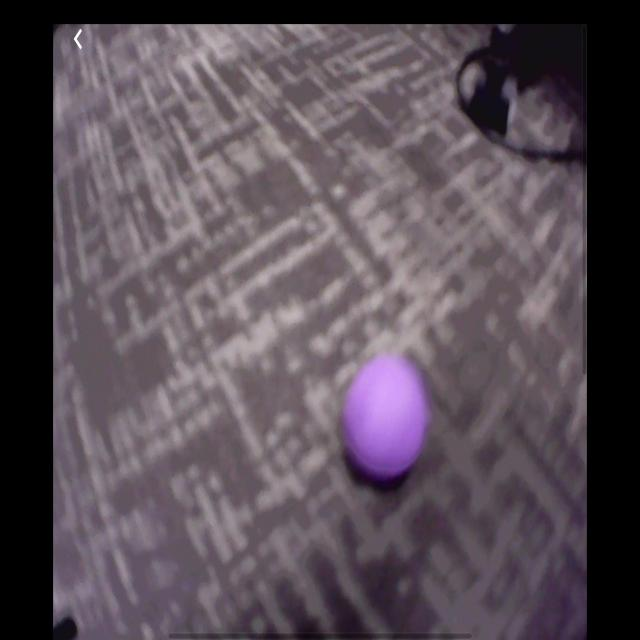ball: (341, 351, 431, 486)
